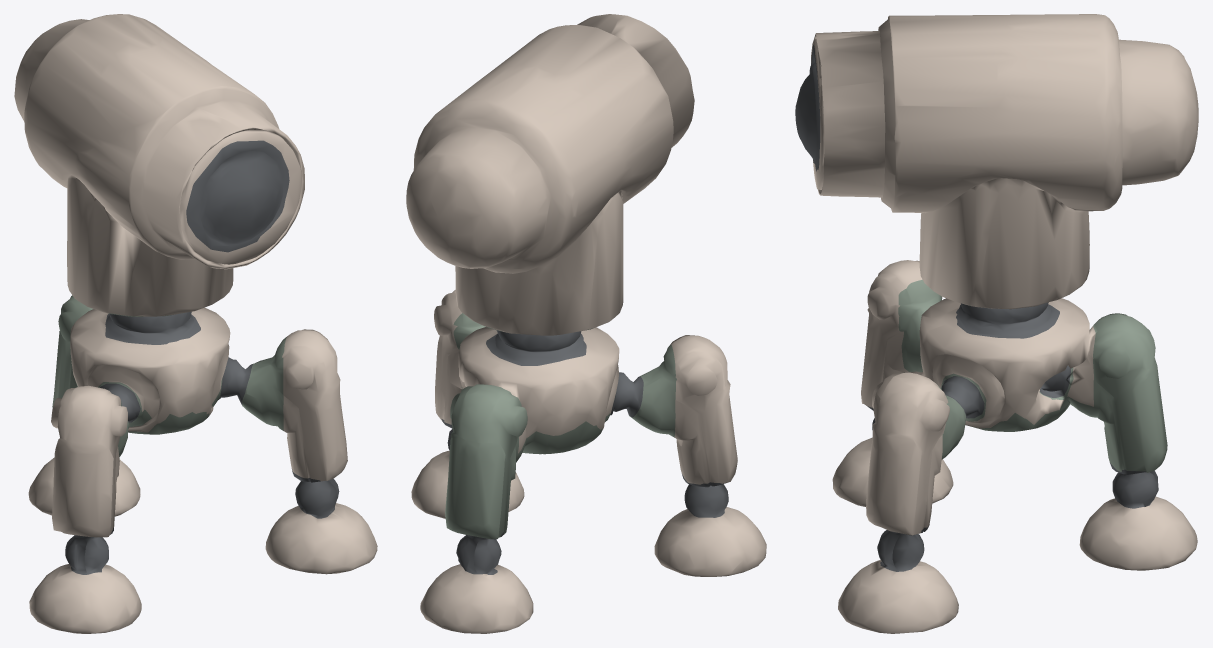
The model's file is tripod.glb.
3 views of the same model, side by side, from view 1: azimuth 30°, elevation 25°; view 2: azimuth 150°, elevation 25°; view 3: azimuth 270°, elevation 25° (orthographic). The views are drawn at different scales.
Visible parts, largest first — view 1: tripod; view 2: tripod; view 3: tripod.
Boxes of the visible parts, x1,y1,x2,y2 form: tripod: [14, 14, 377, 633]; tripod: [406, 14, 766, 633]; tripod: [795, 14, 1198, 633].
Bounding box in the file's own units: 2.18 × 3.08 × 2.15.
